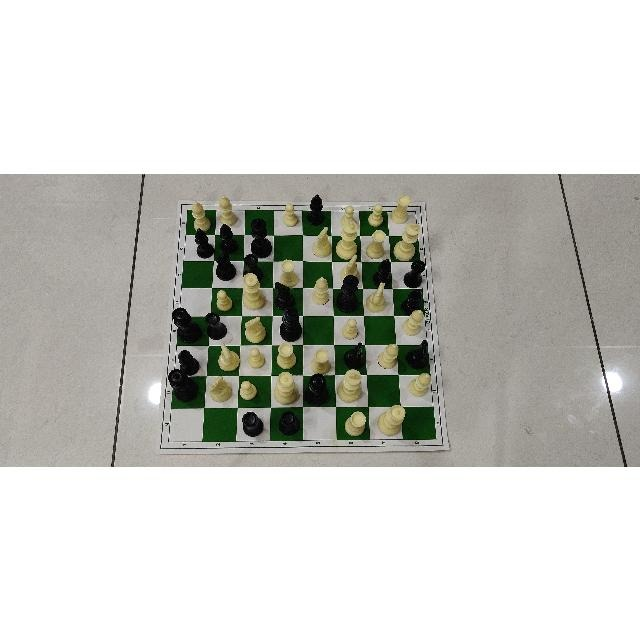black-bishop: (400, 288, 424, 316), (194, 226, 214, 258), (174, 350, 200, 374), (372, 259, 394, 287), (306, 192, 324, 225), (219, 221, 237, 253)
black-king: (249, 216, 272, 257), (335, 273, 360, 310), (279, 304, 302, 341)
black-knight: (404, 339, 429, 369), (275, 280, 297, 310), (344, 342, 366, 368), (216, 252, 236, 280)
black-queen: (168, 367, 199, 401), (172, 308, 202, 342), (305, 371, 329, 406)
black-rook: (243, 253, 264, 282), (205, 311, 226, 339), (402, 260, 424, 286), (278, 409, 300, 435), (241, 410, 264, 434)
white-bishop: (400, 307, 424, 335), (190, 200, 211, 231), (376, 342, 399, 370), (218, 195, 238, 227), (408, 372, 431, 398), (312, 275, 330, 302)
white-king: (335, 219, 360, 258), (395, 224, 421, 258), (338, 368, 362, 402)
white-knight: (206, 376, 237, 404), (215, 342, 241, 374), (363, 281, 387, 313), (243, 315, 269, 343), (340, 252, 361, 285), (311, 224, 331, 258)
white-pawn: (340, 203, 358, 230), (247, 345, 265, 369), (368, 203, 386, 227), (283, 202, 300, 227), (340, 318, 360, 339), (214, 288, 233, 310), (240, 377, 258, 400)
white-queen: (377, 400, 405, 436), (241, 272, 266, 310), (274, 372, 298, 403)
white-rook: (366, 227, 388, 259), (343, 411, 369, 437), (391, 193, 411, 223), (276, 342, 298, 368), (278, 259, 298, 284), (311, 347, 330, 372)
